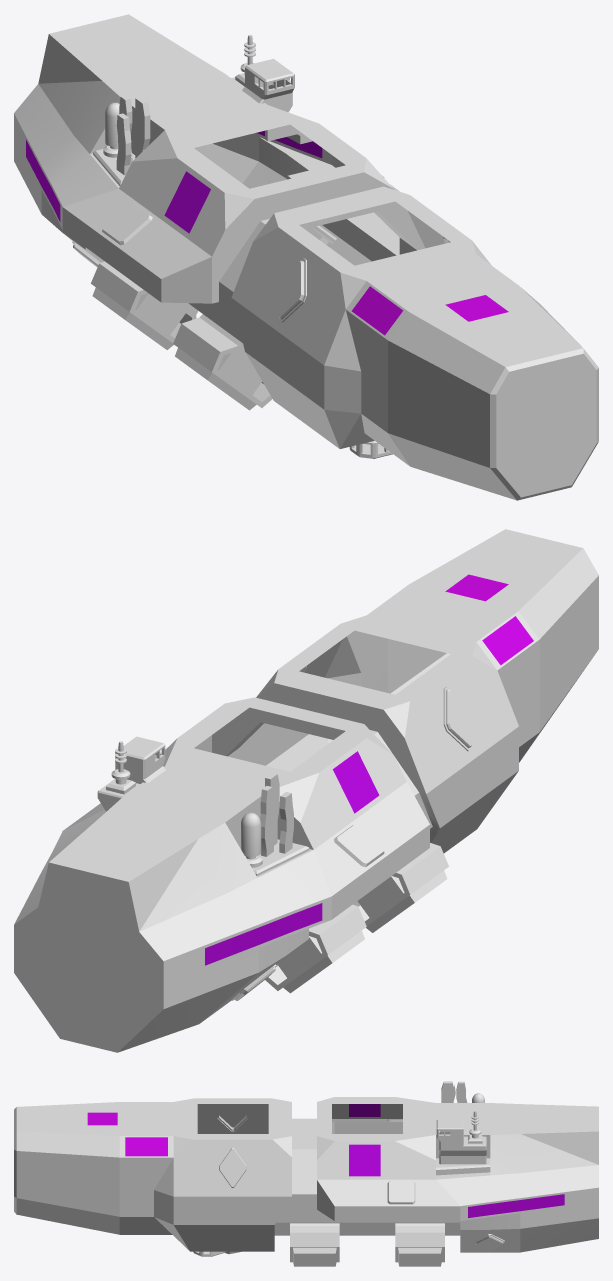
The model's file is ACV_Acheron_Visual_HangarPlanesRemoved.fbx.
3 views of the same model, one above another, from view 1: azimuth 30°, elevation 25°; view 2: azimuth 150°, elevation 25°; view 3: azimuth 270°, elevation 25° (orthographic). The views are drawn at different scales.
Parts seen in each view (by area): view 1: ACV_Acheron_Bow_Nameplate, ACV_Acheron_Stern_Nameplate; view 2: ACV_Acheron_Stern_Nameplate, ACV_Acheron_Bow_Nameplate; view 3: ACV_Acheron_Bow_Nameplate, ACV_Acheron_Stern_Nameplate.
Part boxes in pixels (x1,y1,x2,y2): ACV_Acheron_Bow_Nameplate: (91, 176, 598, 500); ACV_Acheron_Stern_Nameplate: (14, 14, 399, 303); ACV_Acheron_Stern_Nameplate: (14, 697, 429, 1052); ACV_Acheron_Bow_Nameplate: (226, 529, 598, 993); ACV_Acheron_Bow_Nameplate: (14, 1098, 460, 1266); ACV_Acheron_Stern_Nameplate: (317, 1081, 598, 1252).
Size of the model in its own units: 466 by 1373 by 399.
